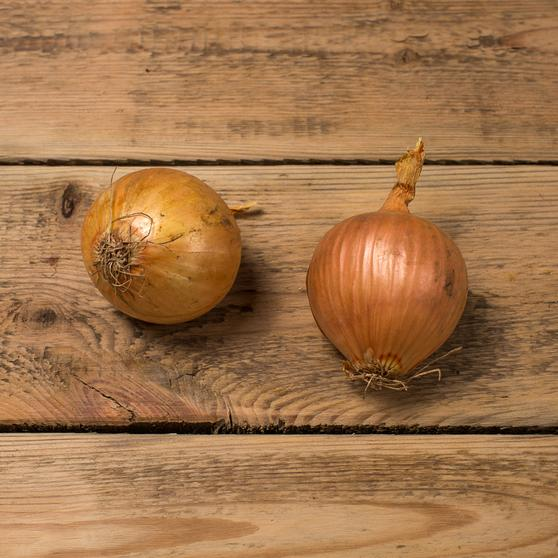onion: (306, 205, 471, 390), (78, 167, 244, 323)
